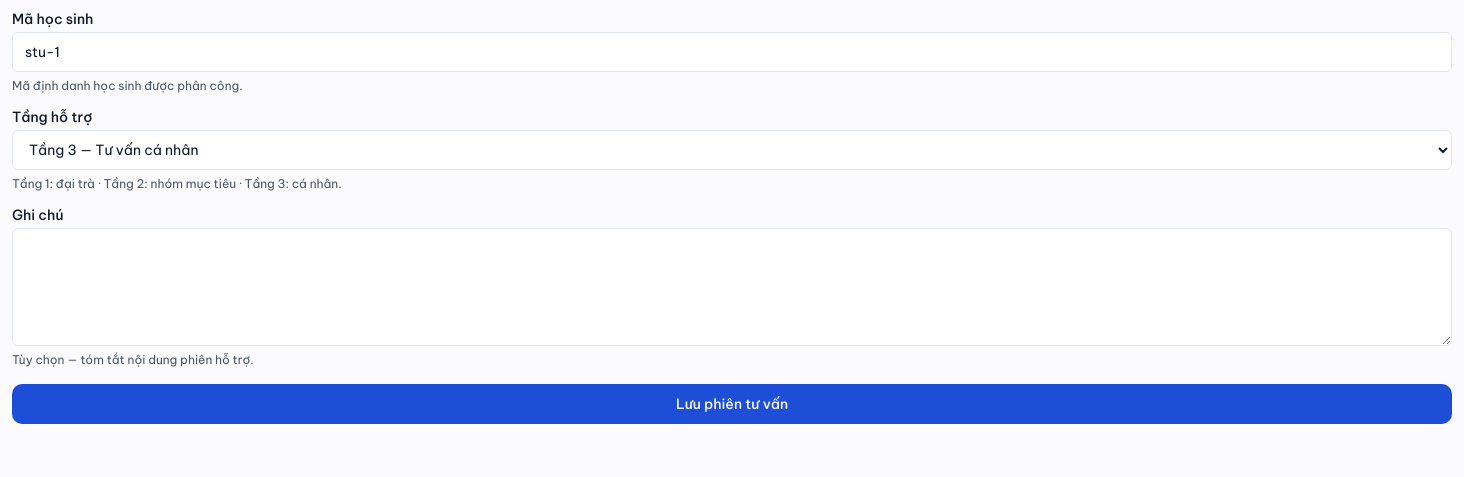
Test: SessionForm (FR-81) › logs a Tier 3 session with the chosen student and notes
This screenshot has width=1464, height=477.
Type "Trao đổi định hướng" into the text box labelled "Ghi chú".
click(732, 287); type("Trao đổi định hướng")  # box [12,228,1452,346]
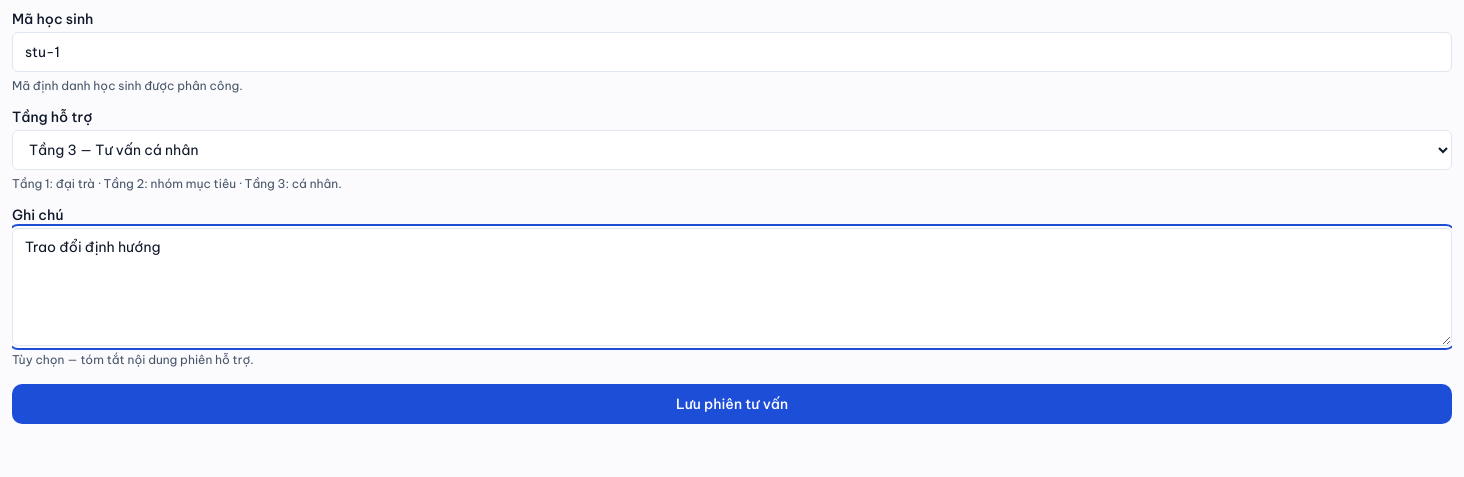
Click the button "Lưu phiên tư vấn".
click(732, 404)  # box [12,384,1452,424]
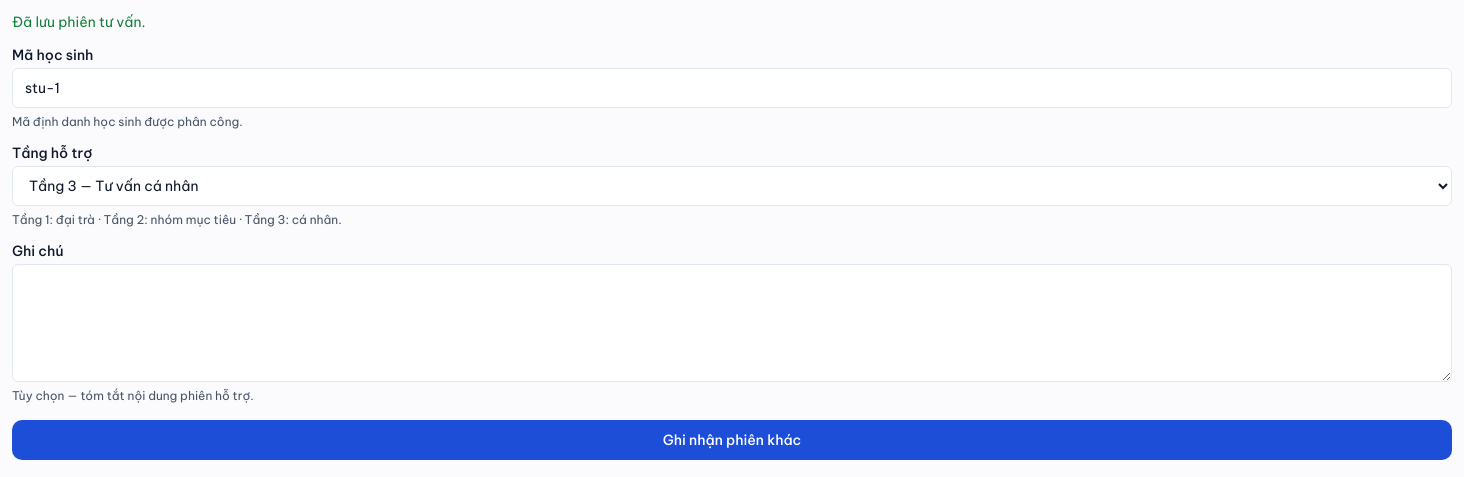
Check: the text "Đã lưu phiên tư vấn." is shown, box [12,13,145,31]
